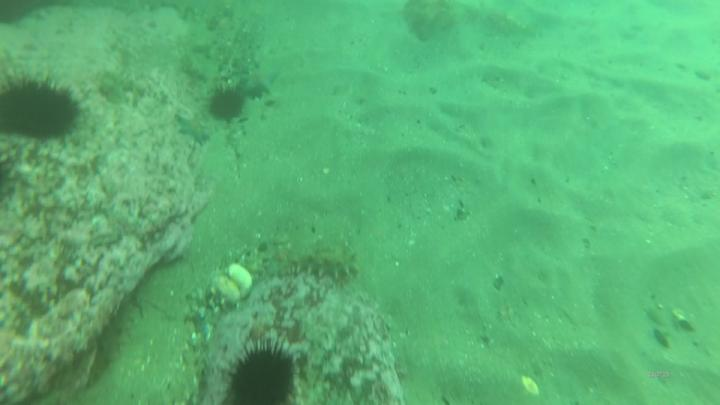echinus: (2, 77, 80, 144), (227, 346, 298, 405), (205, 85, 254, 122)
holothurian: (292, 245, 364, 284)
starfish: (174, 110, 215, 150), (242, 66, 282, 102)
